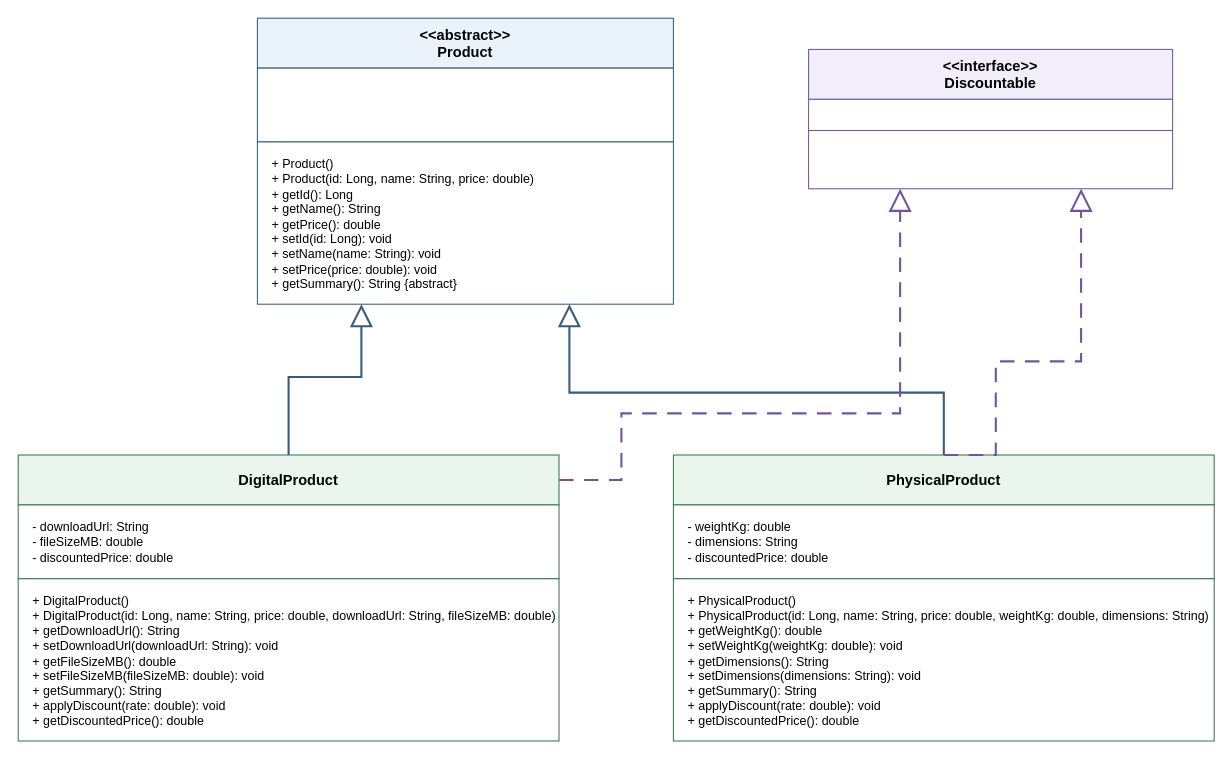
Some shapes in this 1232 by 759 pixel diagram are drawn without their labels. The centre of each missing label's shape, as x and y in pixels:
"+ applyDiscount(rate: double): void + getDiscountedPrice(): double" goes at (990,159).
"- id: Long - name: String - price: double" goes at (464,104).
